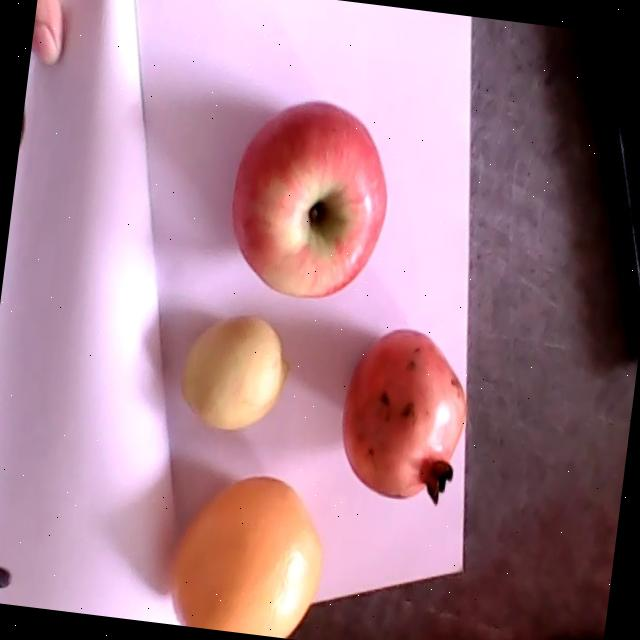apple: (232, 100, 387, 299)
lemon: (179, 314, 288, 430)
orange: (171, 476, 319, 637)
pomegranate: (342, 328, 465, 508)
